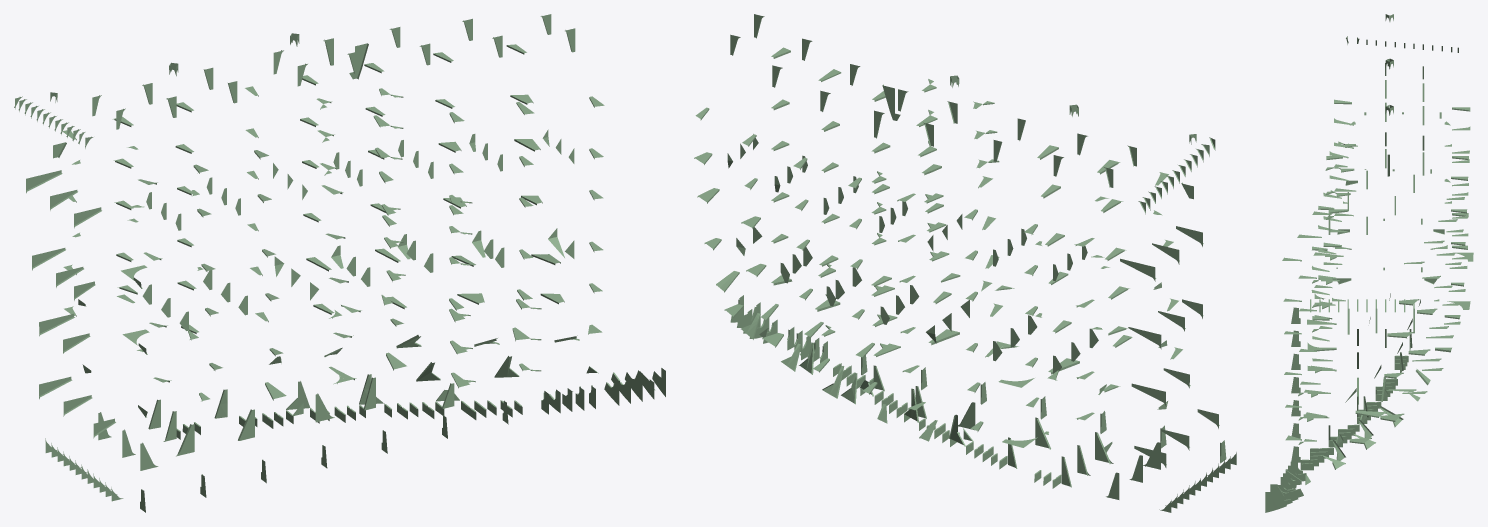
File: NO_1_WING_CARGO_OIL_TK_PS.glb
The picture shows the model from 3 angles, left to right: view 1: azimuth 30°, elevation 25°; view 2: azimuth 150°, elevation 25°; view 3: azimuth 270°, elevation 25°; orthographic projection. The views are drawn at different scales.
Size of the model in its own units: 46.39 by 31.5 by 19.92.
